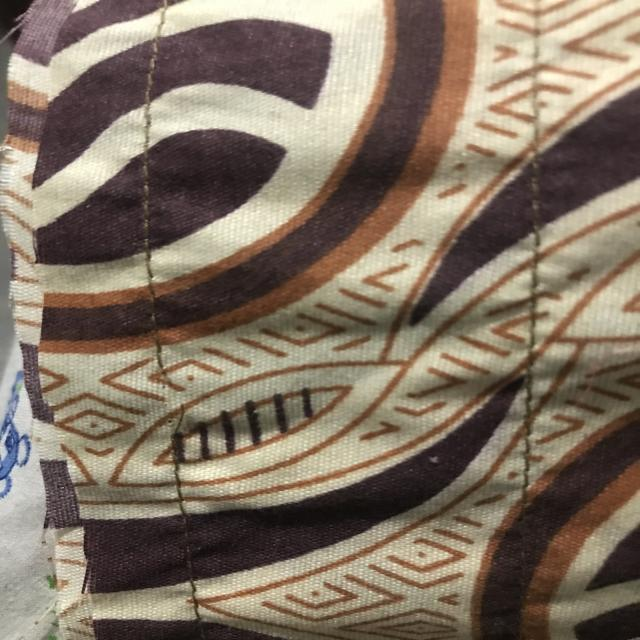broken: (121, 342, 209, 454)
good: (157, 468, 193, 508)
